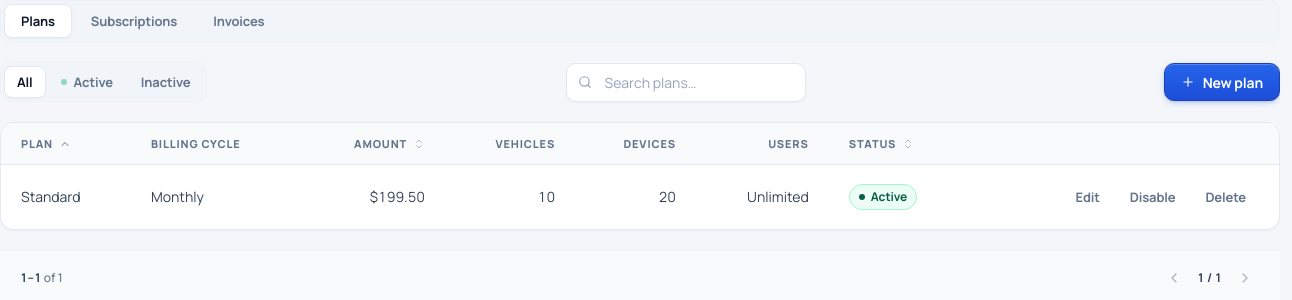
BillingPage › switches to Invoices and shows the invoice number and amount
Expected: the text "Standard" is shown, [21,187,81,206]
Click the tab "Invoices": {"x": 239, "y": 21} [196,4,282,38]
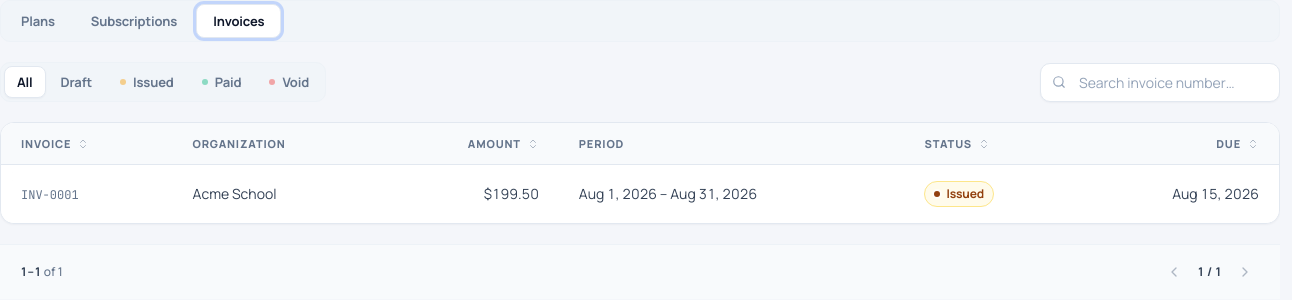
Expected: the text "$199.50" is shown, [383,164,559,223]
Result: the text "INV-0001" is shown at [21,187,79,203]
